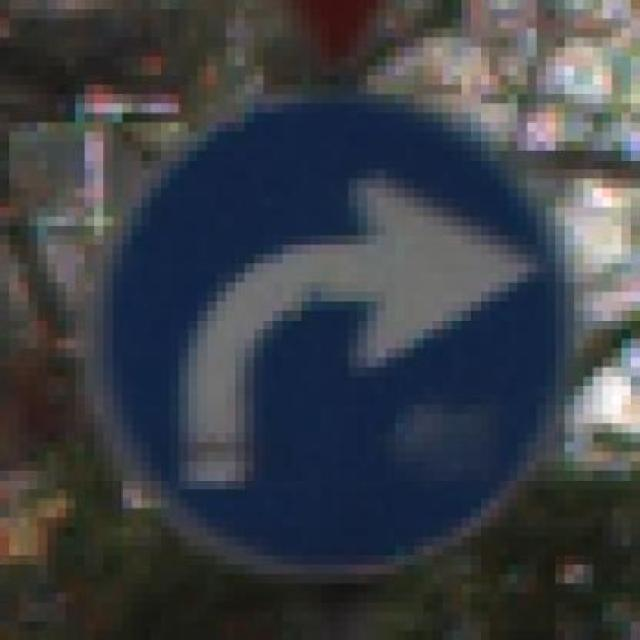Turn right ahead: (85, 78, 566, 568)
